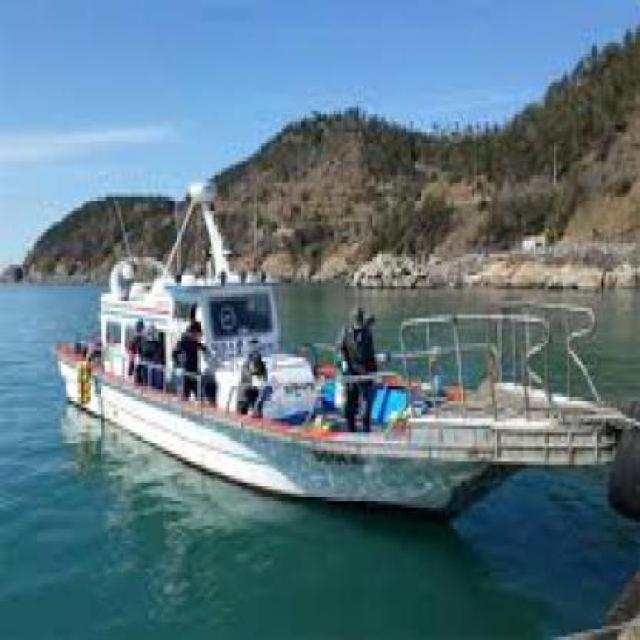fish-b: (60, 190, 639, 544)
